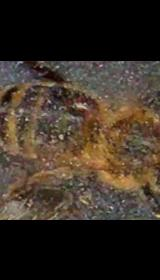varroa_mite: (68, 90, 94, 117)
